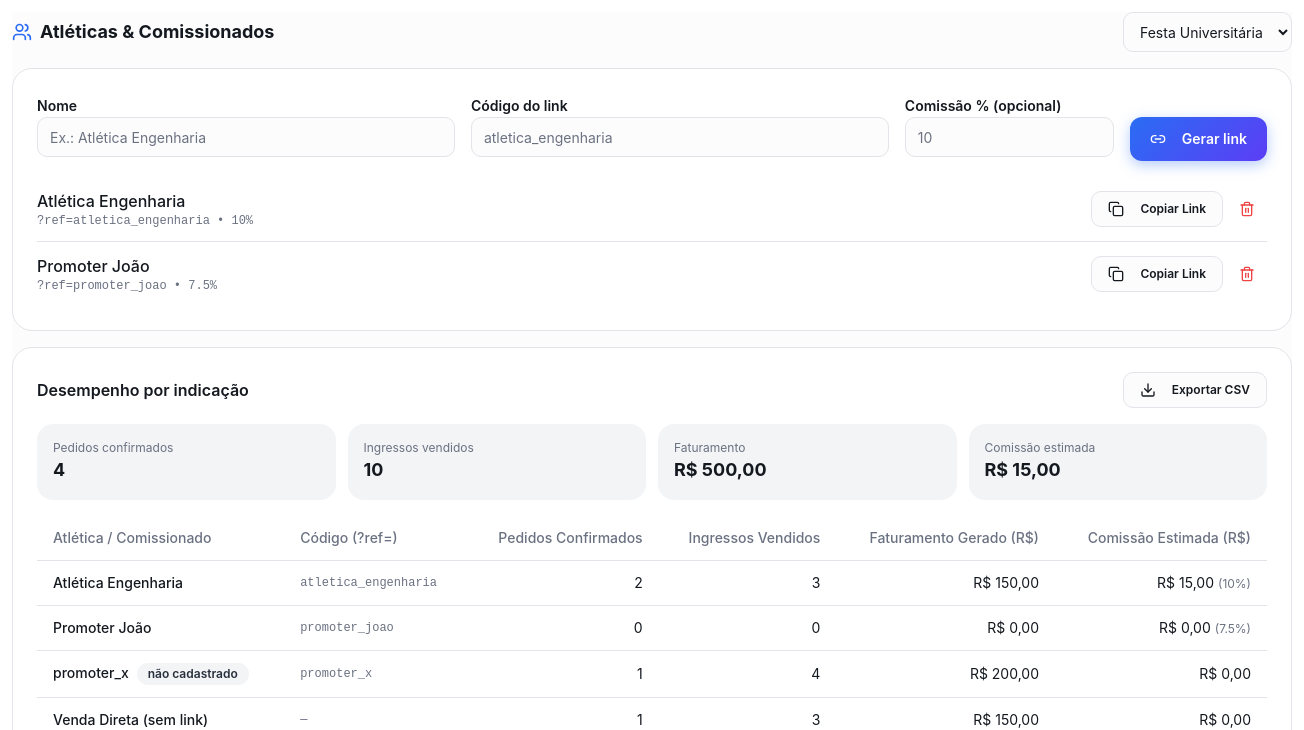
Test: Atléticas & Comissionados — gerador de link › cadastra: INSERT com os dados normalizados, limpa o formulário e lista o novo link
Type "Atlética Nova" into the field with id "affiliate-name" at {"x": 246, "y": 137}, box x1=37 y1=117 x2=455 y2=157
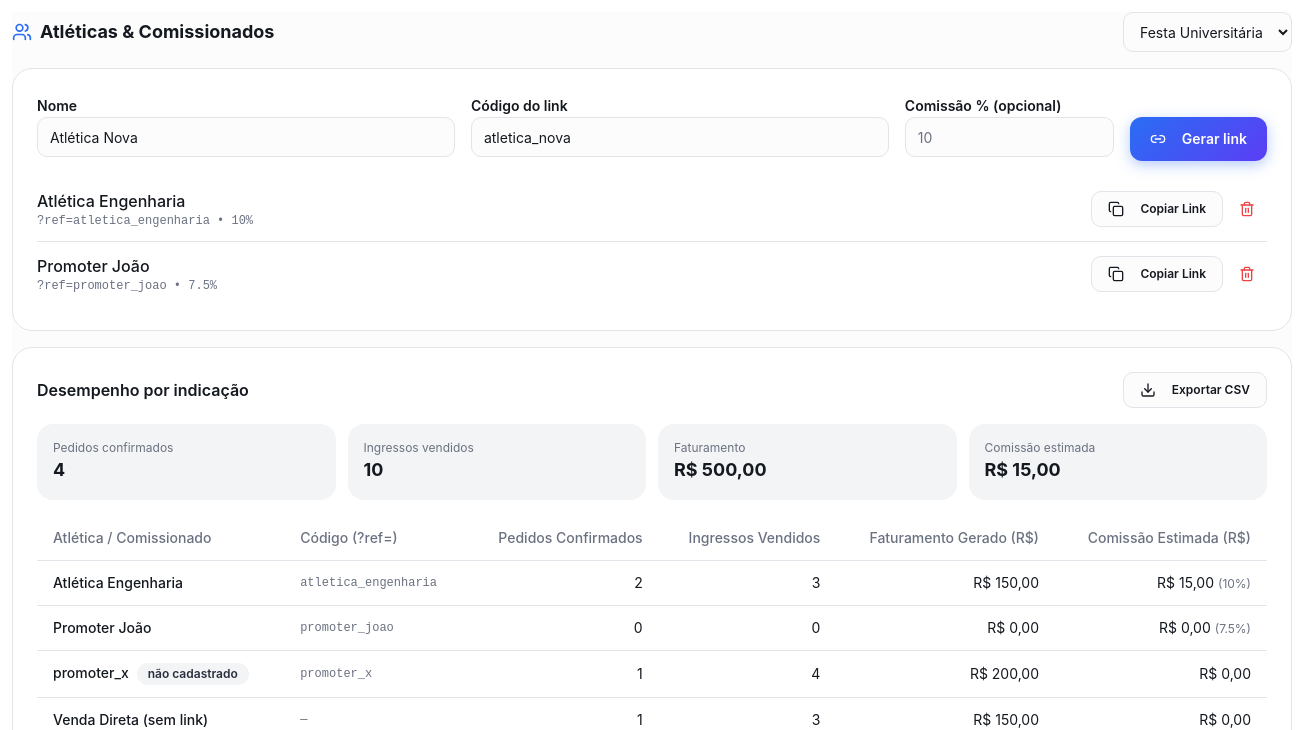
Type "7,5" into the field with id "affiliate-commission" at {"x": 1009, "y": 137}, box x1=905 y1=117 x2=1114 y2=157
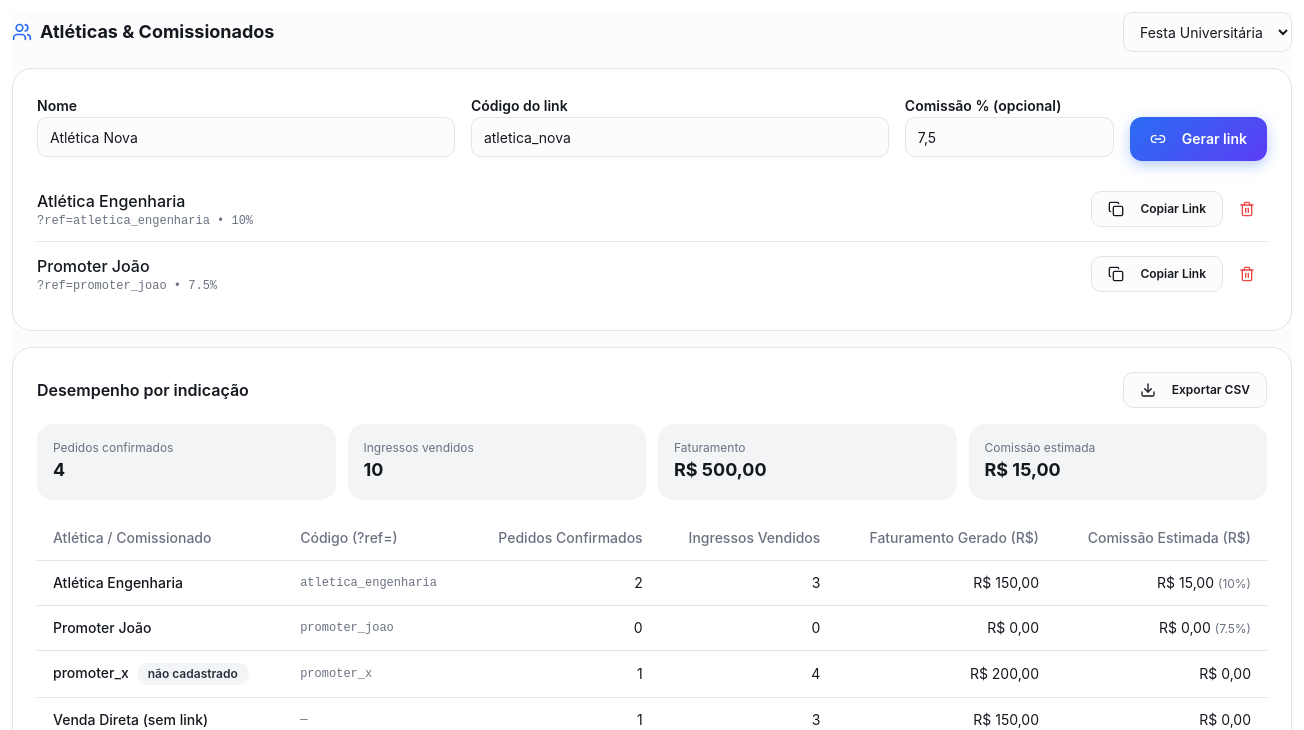
Click the button "Gerar link" at {"x": 1198, "y": 139}, box x1=1130 y1=117 x2=1267 y2=161
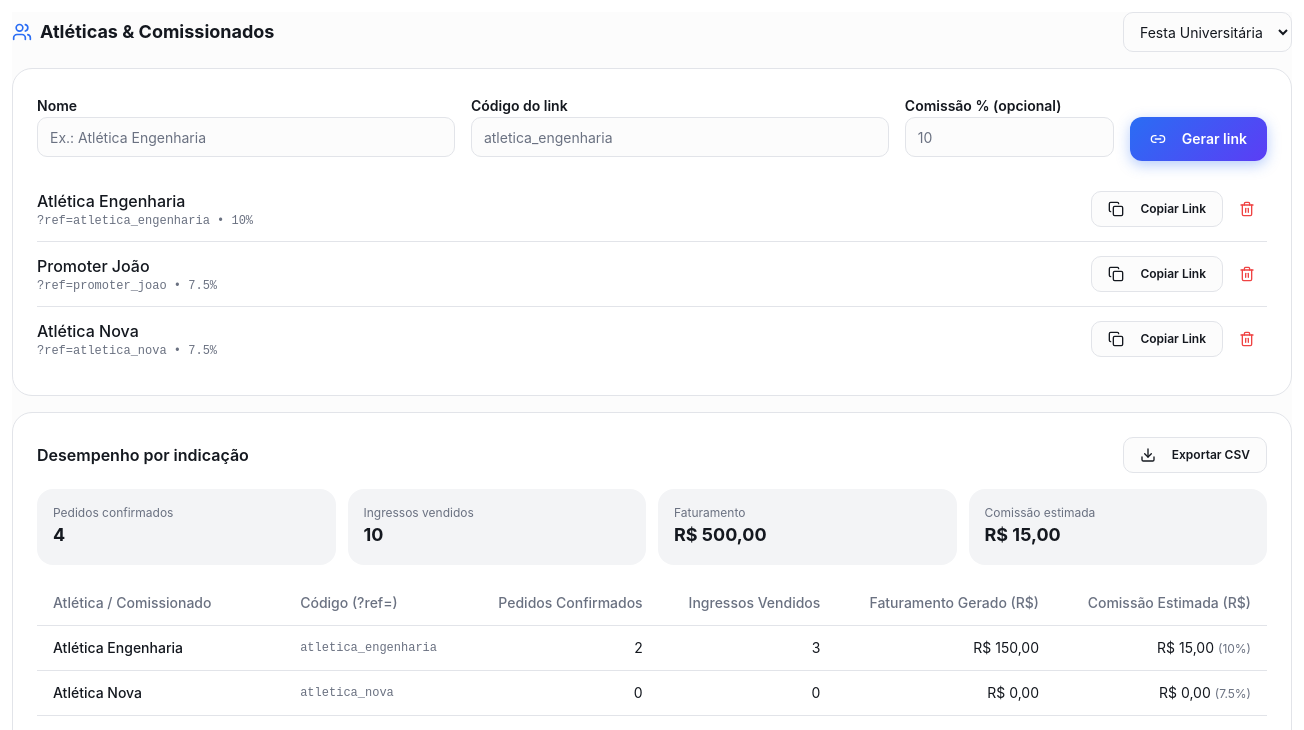
Now the button named "copiar link de atlética nova" is shown, box x1=1091 y1=321 x2=1223 y2=357
Now the field with id "affiliate-name" is empty, box x1=37 y1=117 x2=455 y2=157
Now the row with test id "row-atletica_nova" shows "Atlética Nova", box x1=53 y1=684 x2=142 y2=701
